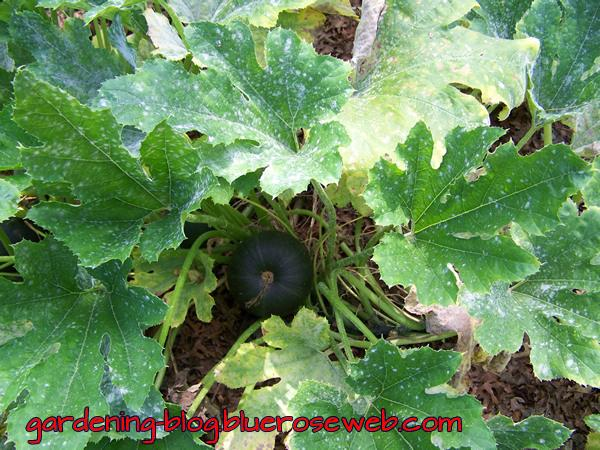Squash Powdery mildew leaf: (95, 20, 349, 199), (359, 130, 595, 297), (14, 61, 211, 260), (2, 239, 169, 450), (346, 1, 541, 171), (277, 341, 508, 450), (476, 202, 600, 381)
